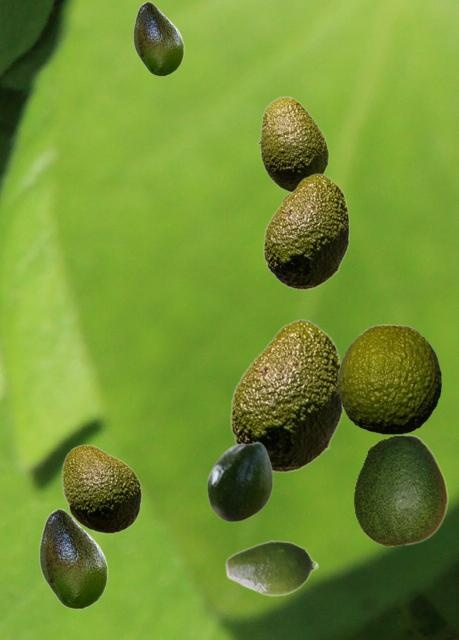avocado: (230, 319, 342, 472), (337, 324, 440, 433), (353, 434, 447, 545), (263, 173, 348, 289), (61, 444, 141, 533), (39, 508, 107, 608), (257, 96, 328, 191), (224, 539, 318, 596), (206, 441, 272, 521), (133, 1, 183, 75)
